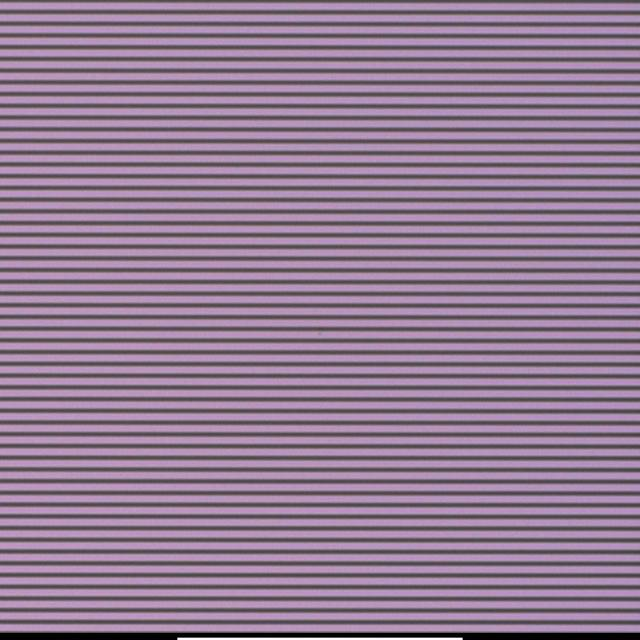03_intrusion: (316, 326, 329, 344)
